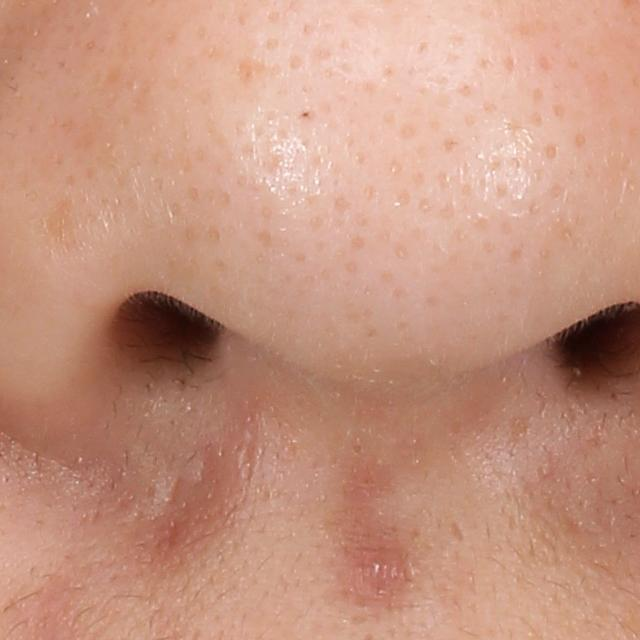atrophic_scar: (150, 453, 226, 552), (449, 514, 466, 545)
papule: (351, 545, 411, 589)
